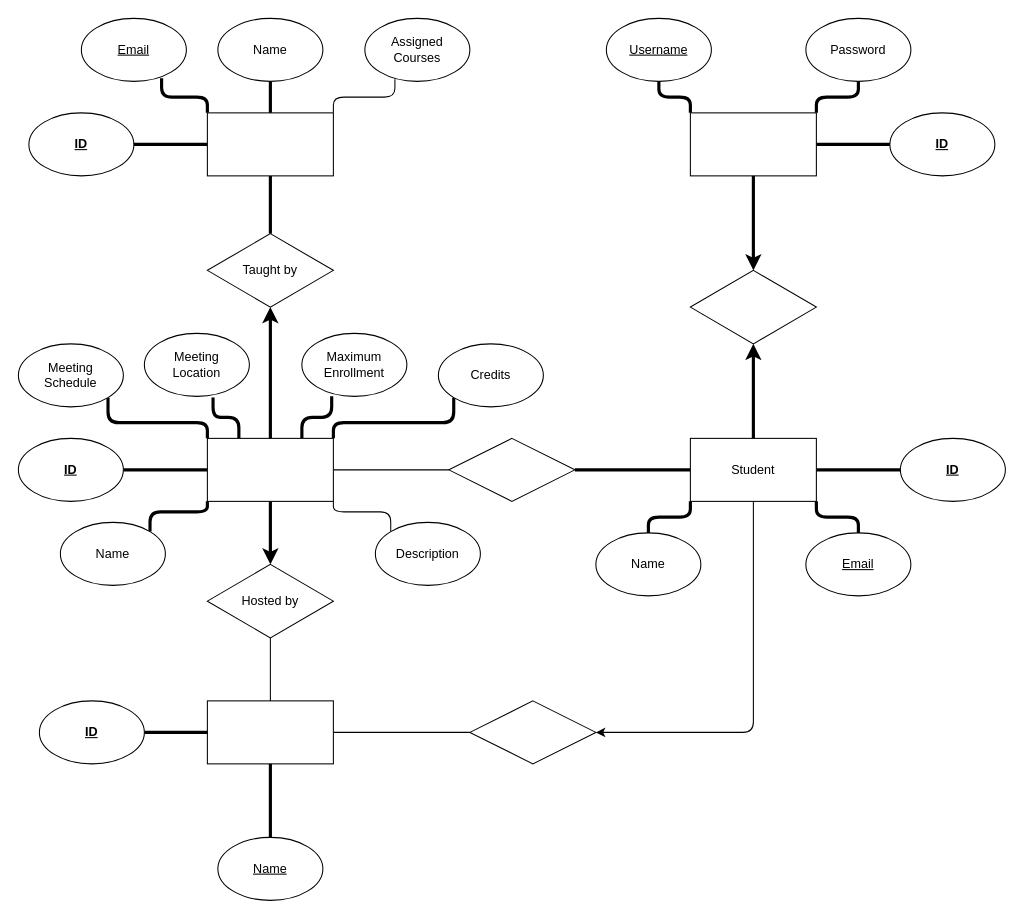
The diagram is 1024 pixels wide and 919 high, and some of its shapes have lost their labels. Here are the shapes that lost their labels. From the top down, the box of each, then its label:
(206, 112, 333, 176): Instructor
(689, 112, 816, 176): User Account
(689, 269, 816, 344): Has a
(206, 437, 333, 501): Course
(448, 437, 575, 501): Enrolls in
(206, 700, 333, 764): Department
(469, 700, 596, 764): Majors in
